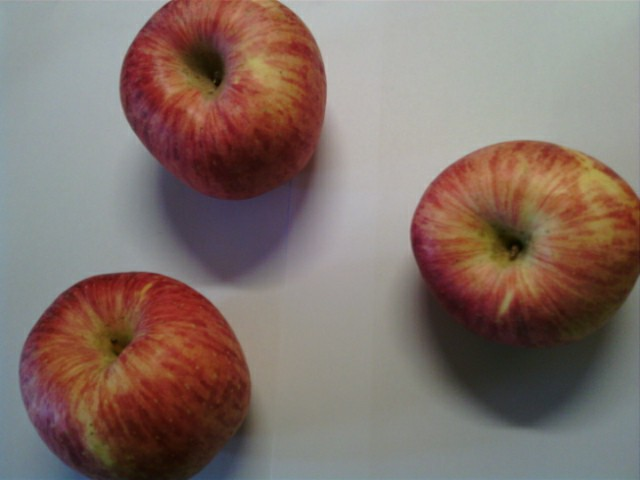normal_apple: (16, 269, 253, 480), (410, 137, 640, 346), (119, 1, 326, 205)
